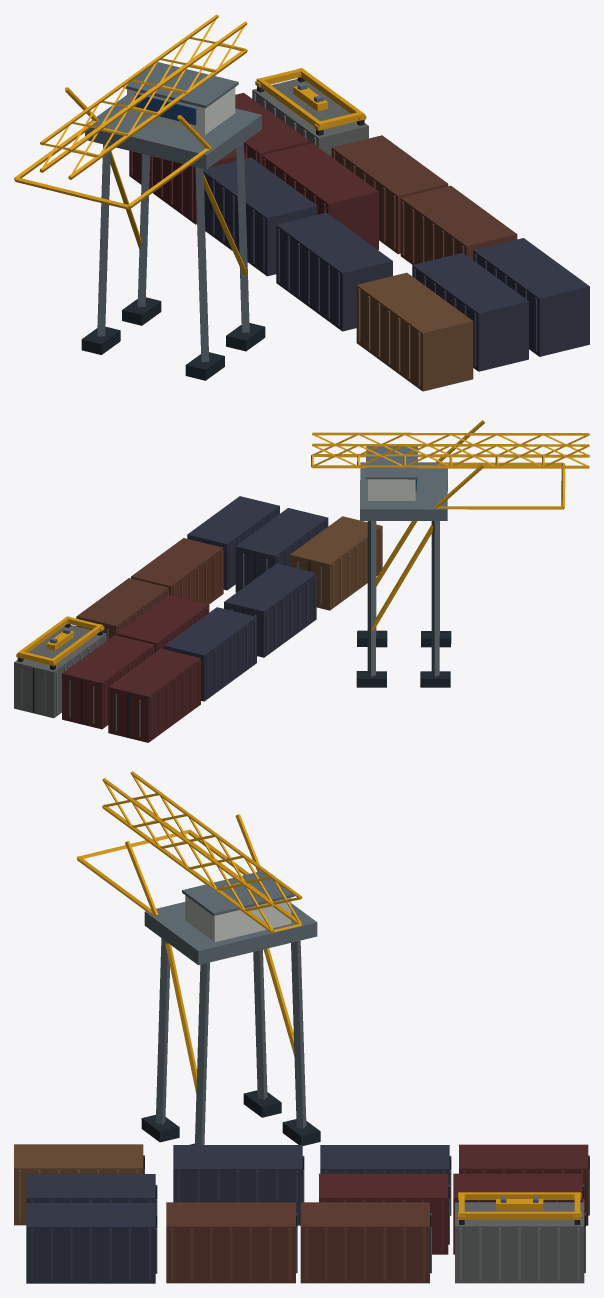
Rendered from gantry-crane-n-s-08.glb.
The picture shows the model from 3 angles, top to bottom: view 1: azimuth 30°, elevation 25°; view 2: azimuth 150°, elevation 25°; view 3: azimuth 270°, elevation 25°; orthographic projection. The views are drawn at different scales.
Visible parts, largest first — view 1: gantry-crane-n-s-08; view 2: gantry-crane-n-s-08; view 3: gantry-crane-n-s-08.
Part boxes in pixels (left/top/right/bottom): gantry-crane-n-s-08: left=14, top=14, right=589, bottom=391; gantry-crane-n-s-08: left=14, top=420, right=589, bottom=742; gantry-crane-n-s-08: left=14, top=771, right=589, bottom=1283.
Size of the model in its own units: 57.12 by 31.18 by 58.78.
